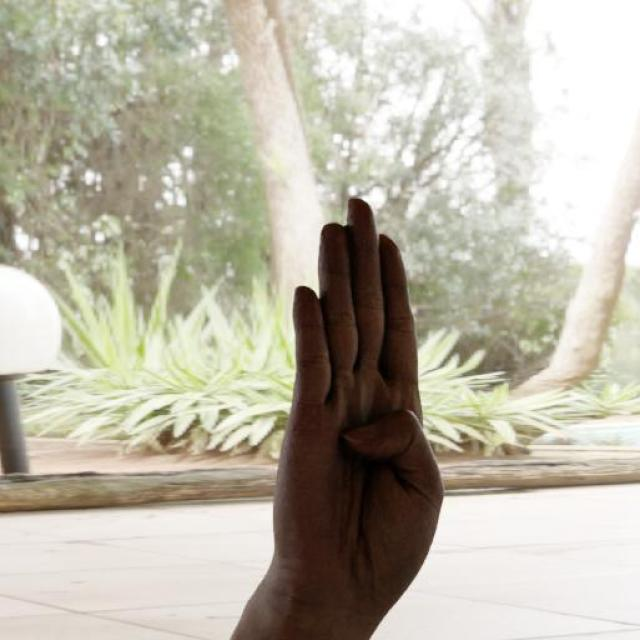B: (257, 176, 468, 640)
